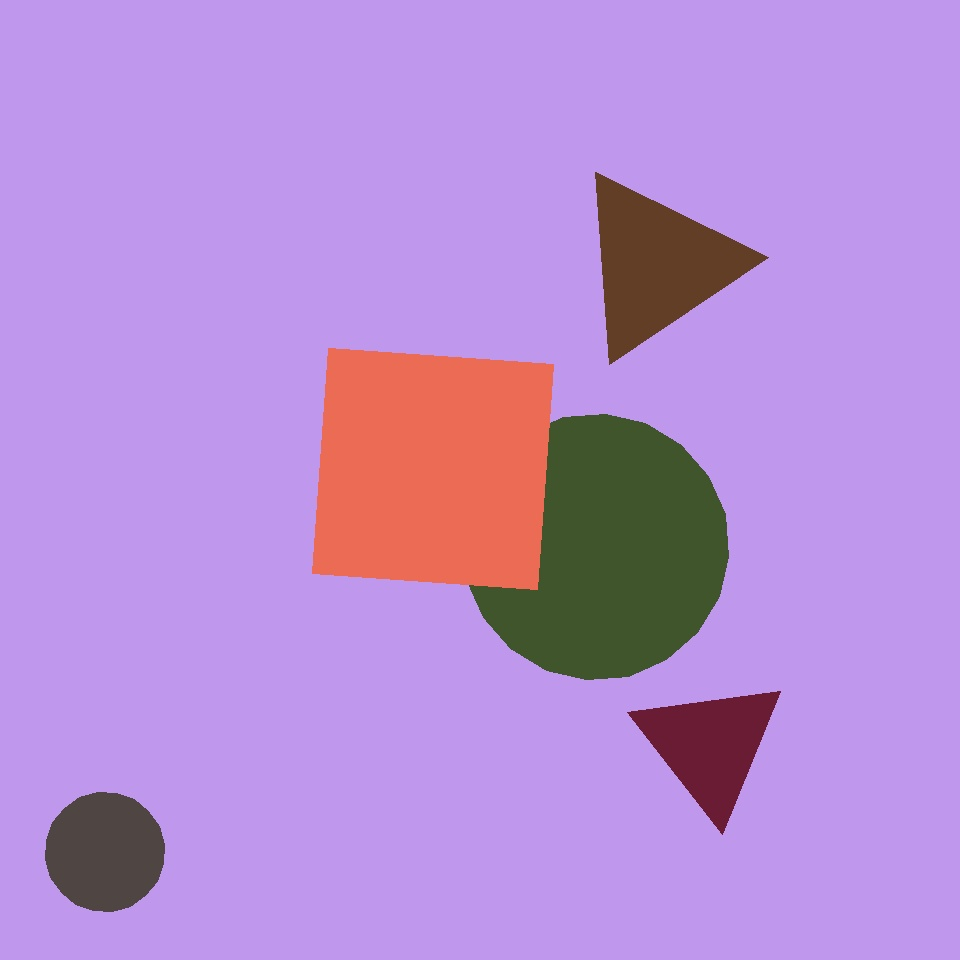circle: (264, 34, 508, 285), (572, 169, 744, 361), (634, 674, 786, 818)
square: (76, 504, 327, 756), (313, 348, 554, 590), (306, 669, 527, 890), (101, 477, 222, 598)
triangle: (429, 368, 792, 731), (144, 205, 497, 559), (452, 274, 746, 567), (464, 414, 728, 680), (327, 548, 544, 765), (46, 792, 164, 912)
